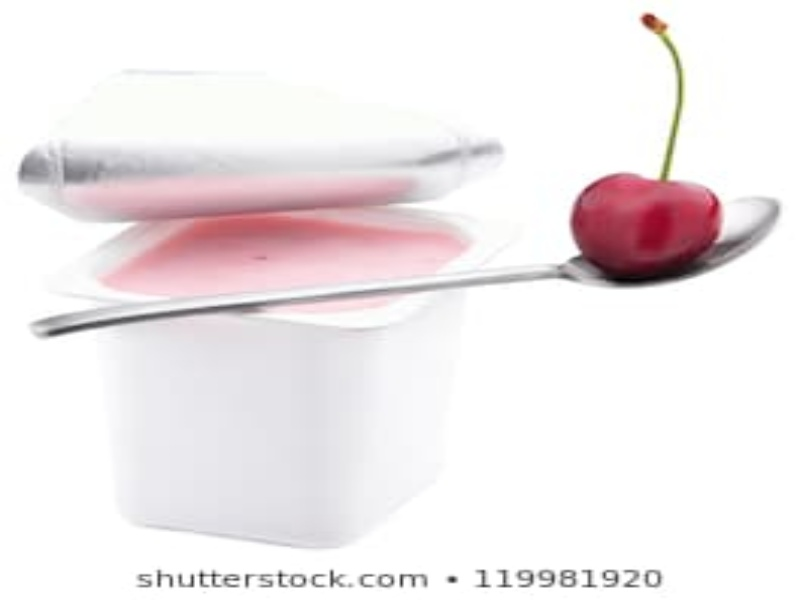yogurt-cup: (44, 208, 524, 555)
